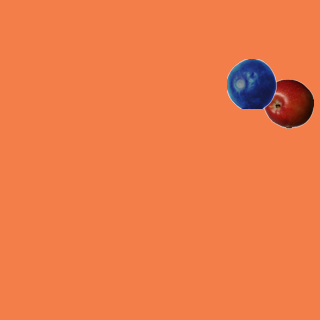Apple Braeburn: (263, 78, 313, 128)
Huckleberry: (226, 58, 276, 108)
